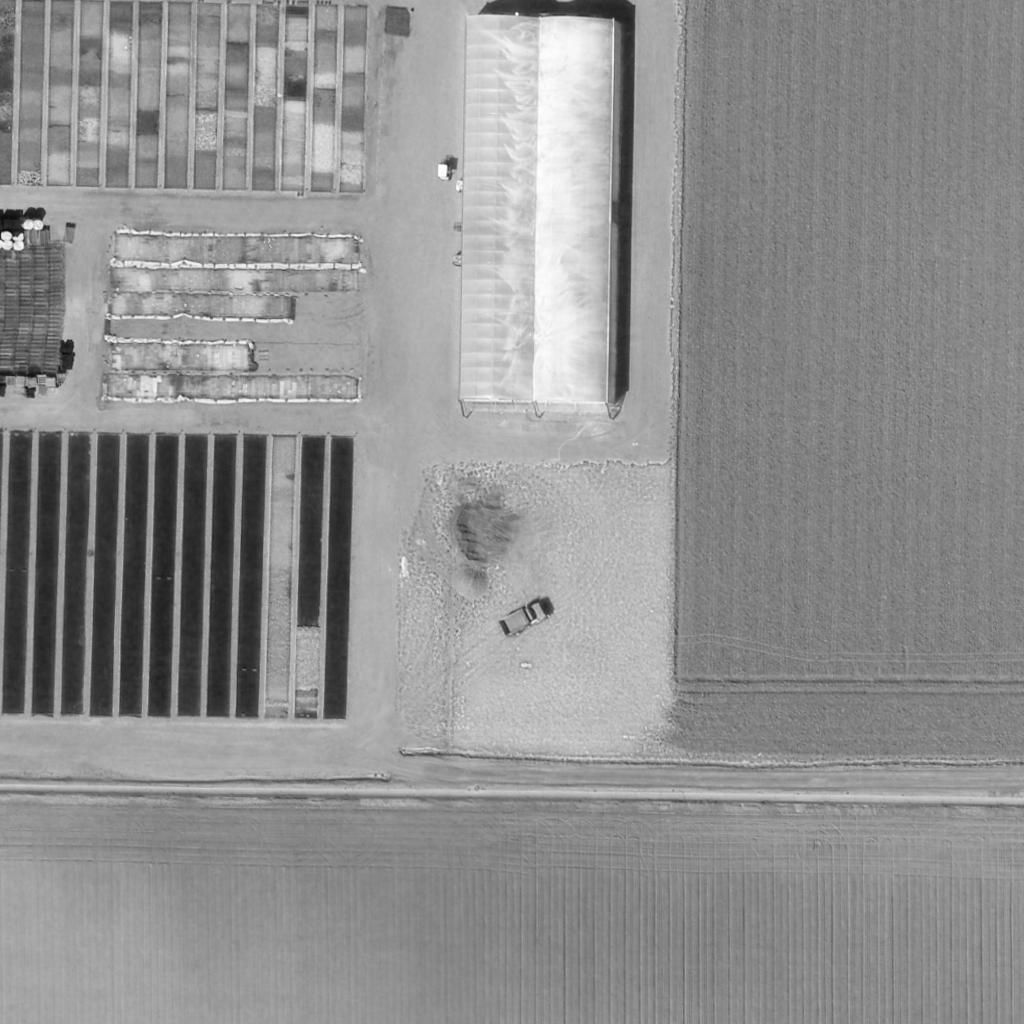vehicle: (495, 601, 553, 637)
